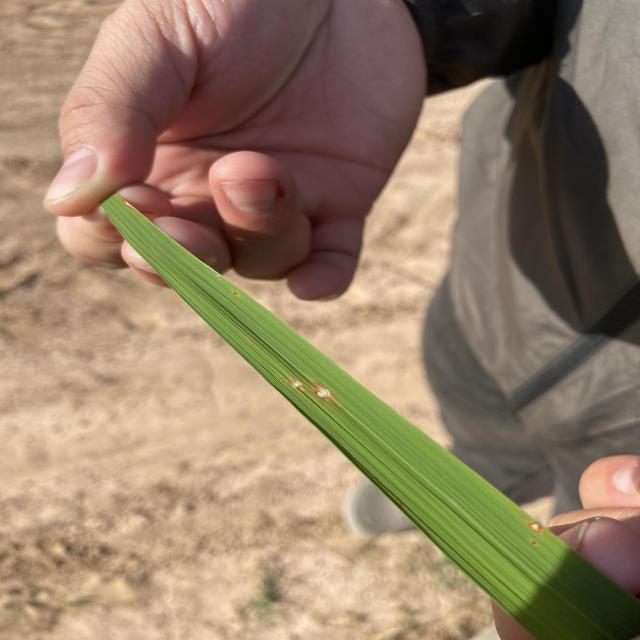Dao on: (311, 381, 334, 400), (121, 197, 136, 209), (289, 378, 303, 389), (529, 522, 542, 532)
